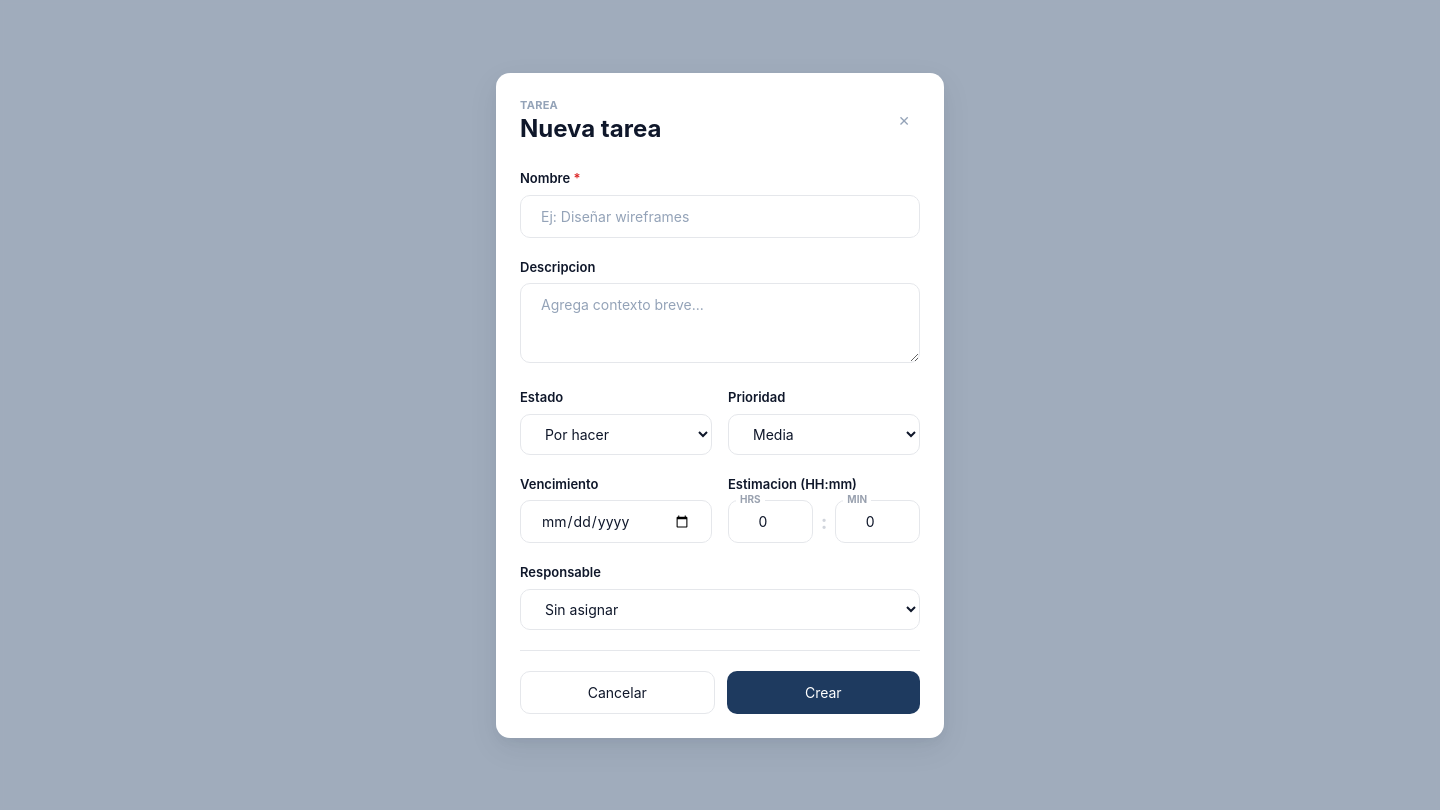
Test: TaskForm › clamps the hours input to the maximum allowed estimate
The image size is (1440, 810).
Replace the text in the number field with placeholder "HH" next to "HRS" with "9999" at {"x": 770, "y": 522}, box x1=728 y1=500 x2=813 y2=543
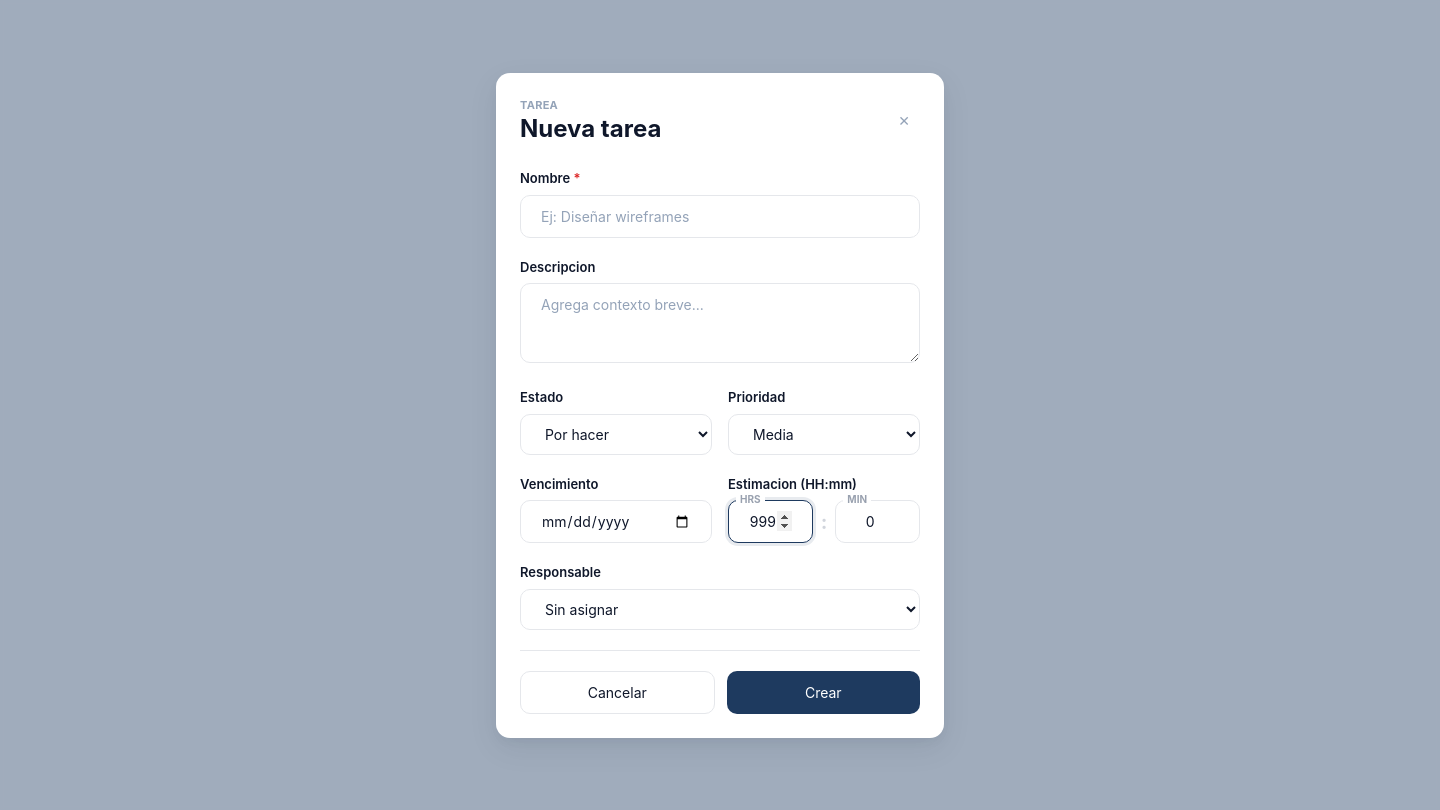
Result: the number field with placeholder "HH" next to "HRS" holds "999" at x1=728 y1=500 x2=813 y2=543
